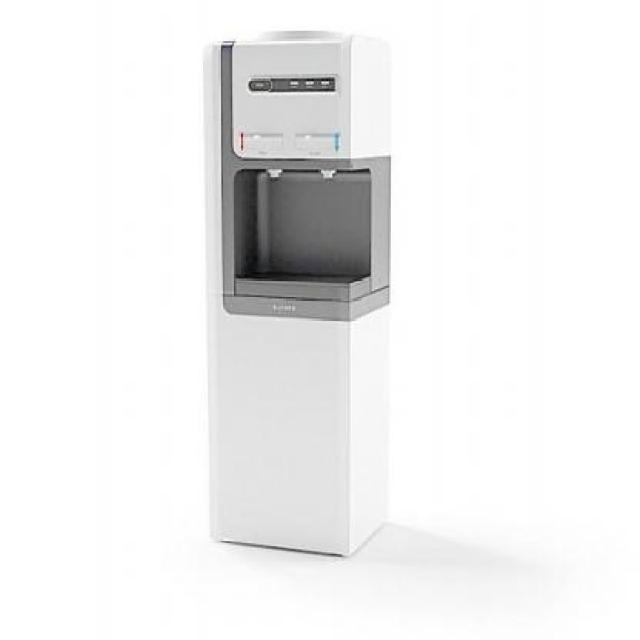cooler: (203, 26, 397, 562)
